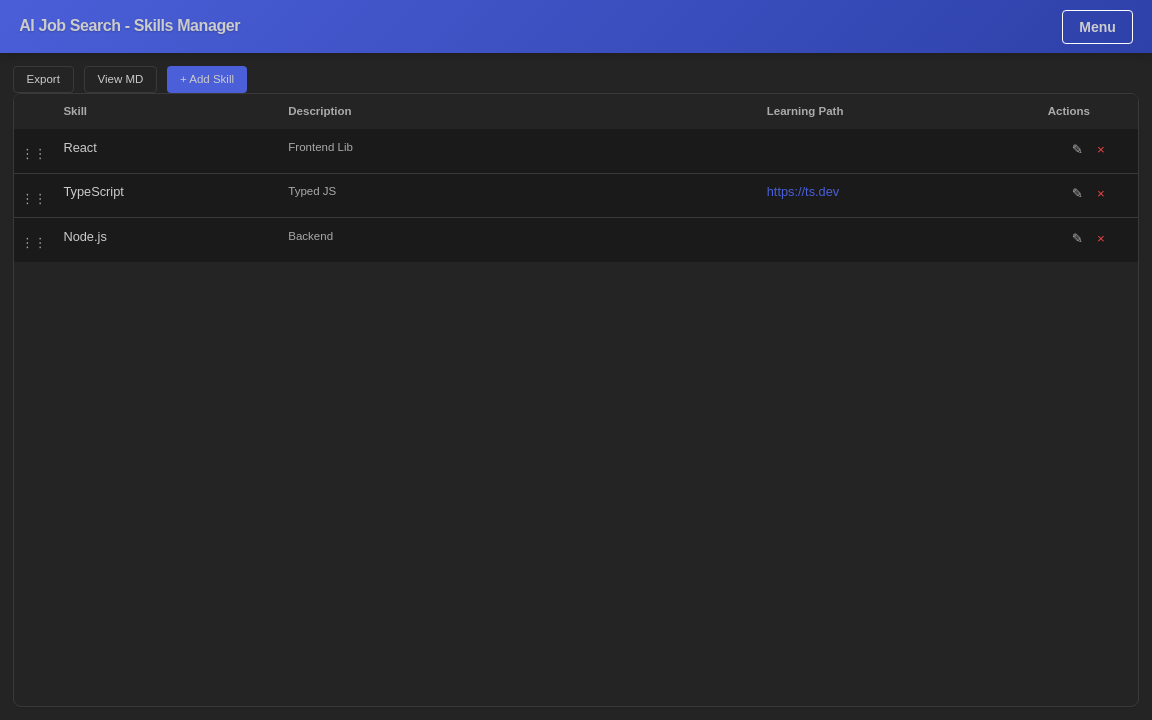
Test: SkillsManager › Rendering › toggles between table and markdown view
Expected: the table is shown, [14,94,1138,262]
# Switch to MD
Click the button "View MD" at (120, 79), box [84,66,157,93]
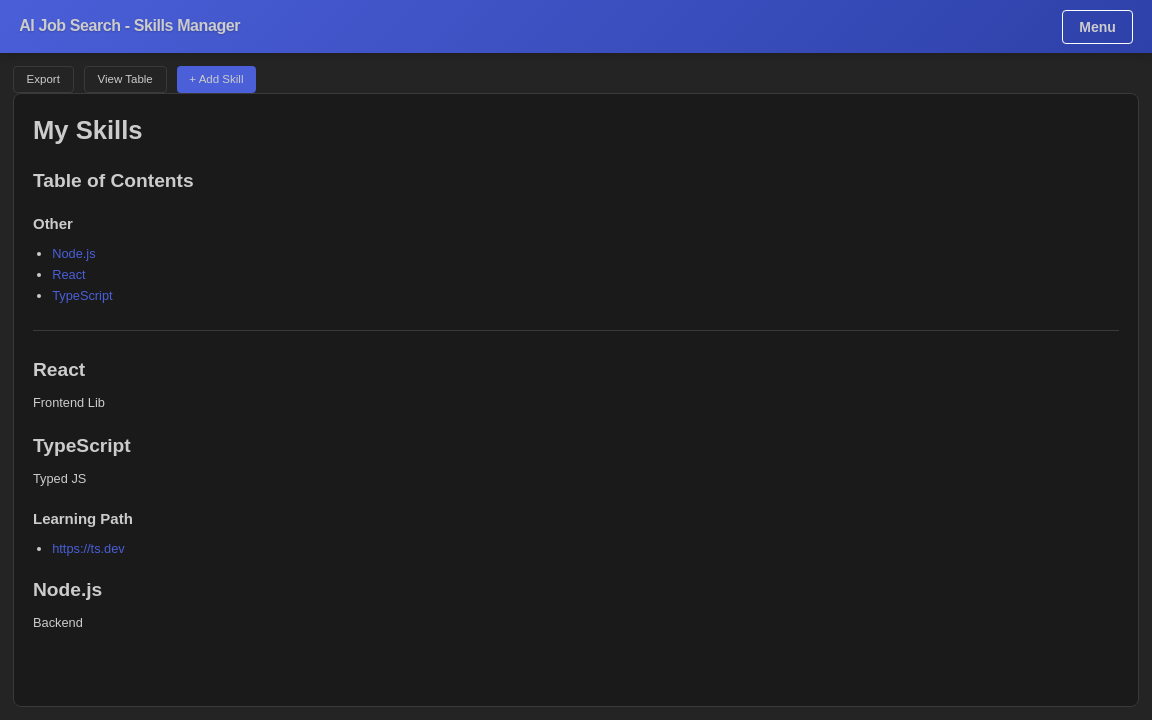
Expected: the button "View Table" is shown
Expected: the table is gone
Expected: the heading "My Skills" is shown, [33,116,142,144]
# Switch back
Click the button "View Table" at (125, 79), box [84,66,167,93]
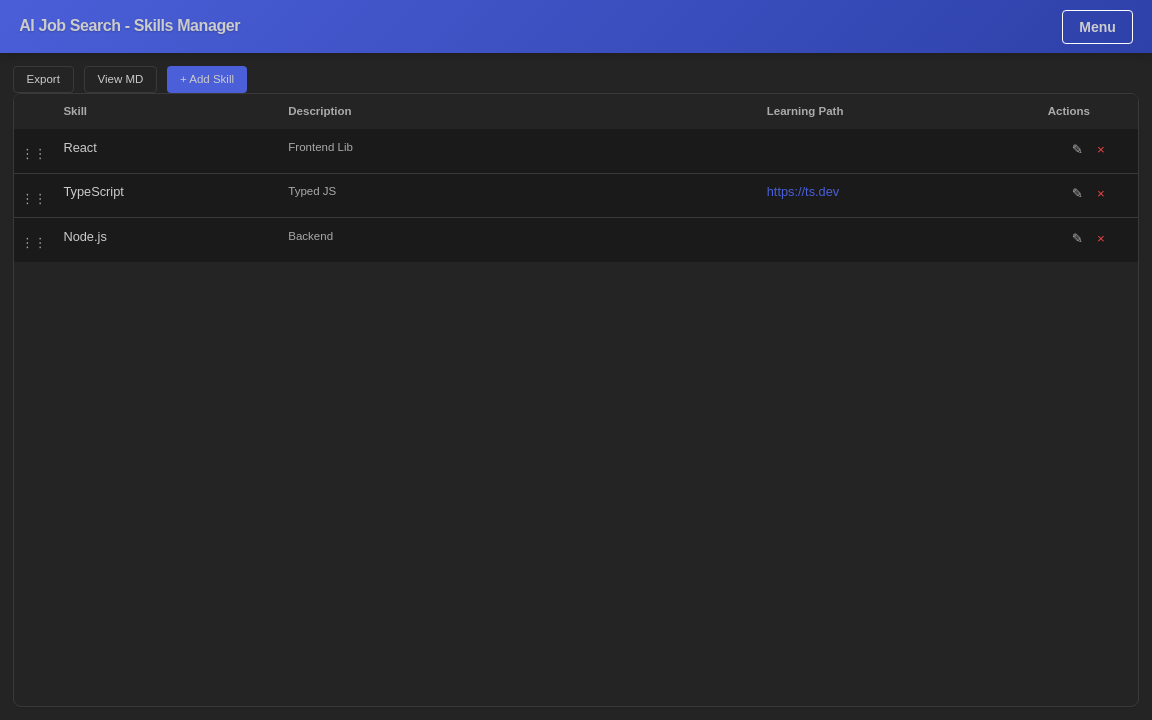
Expected: the table is shown, [14,94,1138,262]
